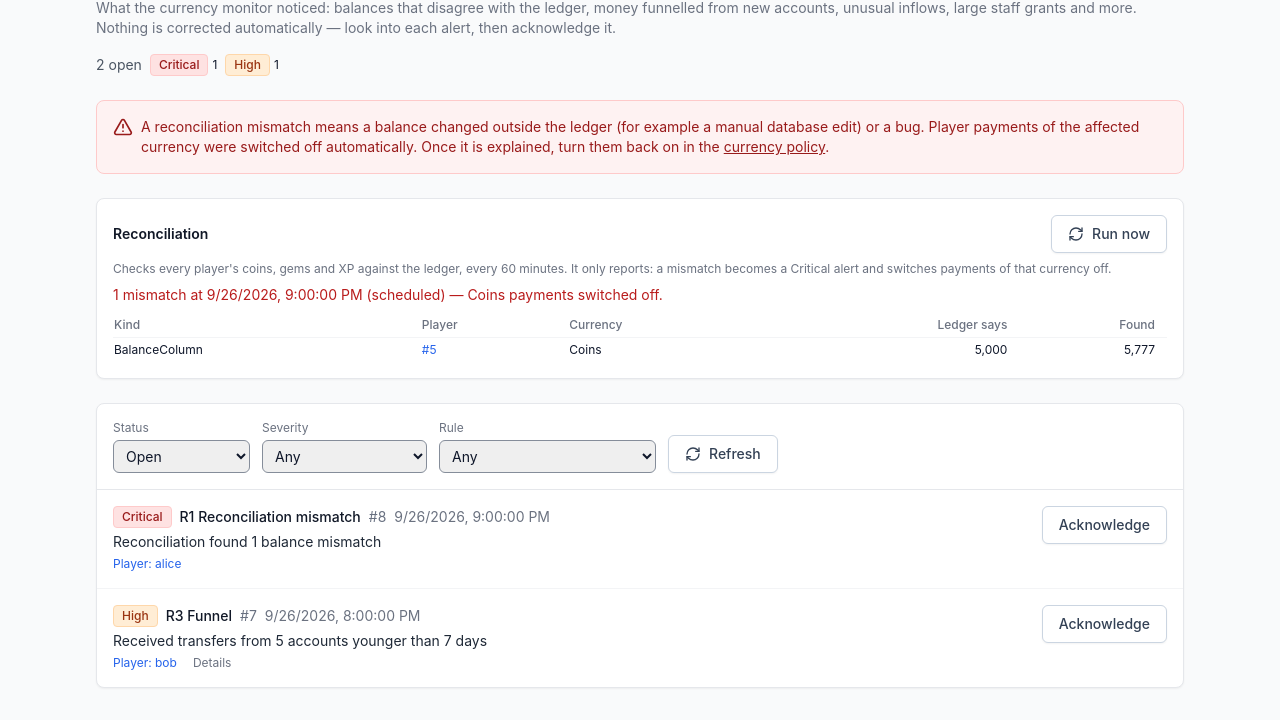
Test: CurrencyAlertsPage › shows the details of an alert and runs the reconciliation on demand
(page scrolled)
Expected: the text "R3 Funnel" is shown, [166,606,232,626]
Step 1. Click the button "Details" → (212, 663), box [193,655,231,671]
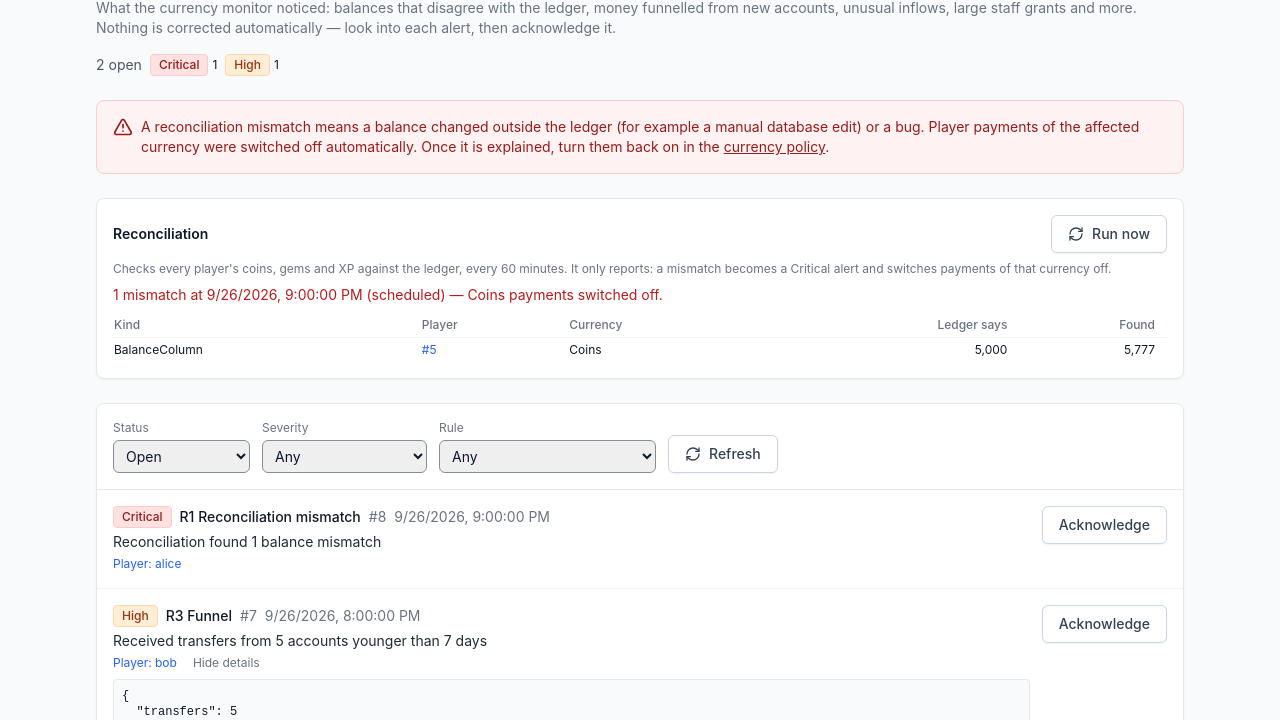
Step 2. Click the button "Run now" → (1109, 234), box [1051,215,1167,253]
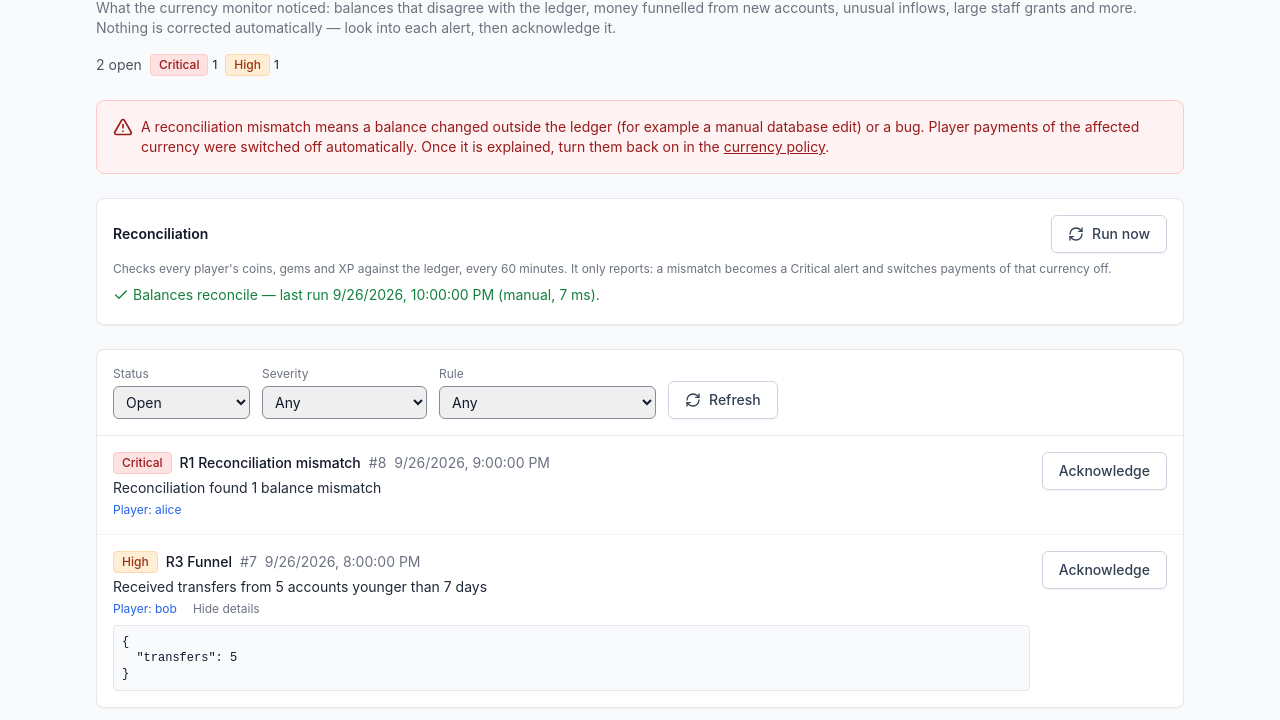
Now the text "Balances reconcile" is shown, box [133,286,333,303]
